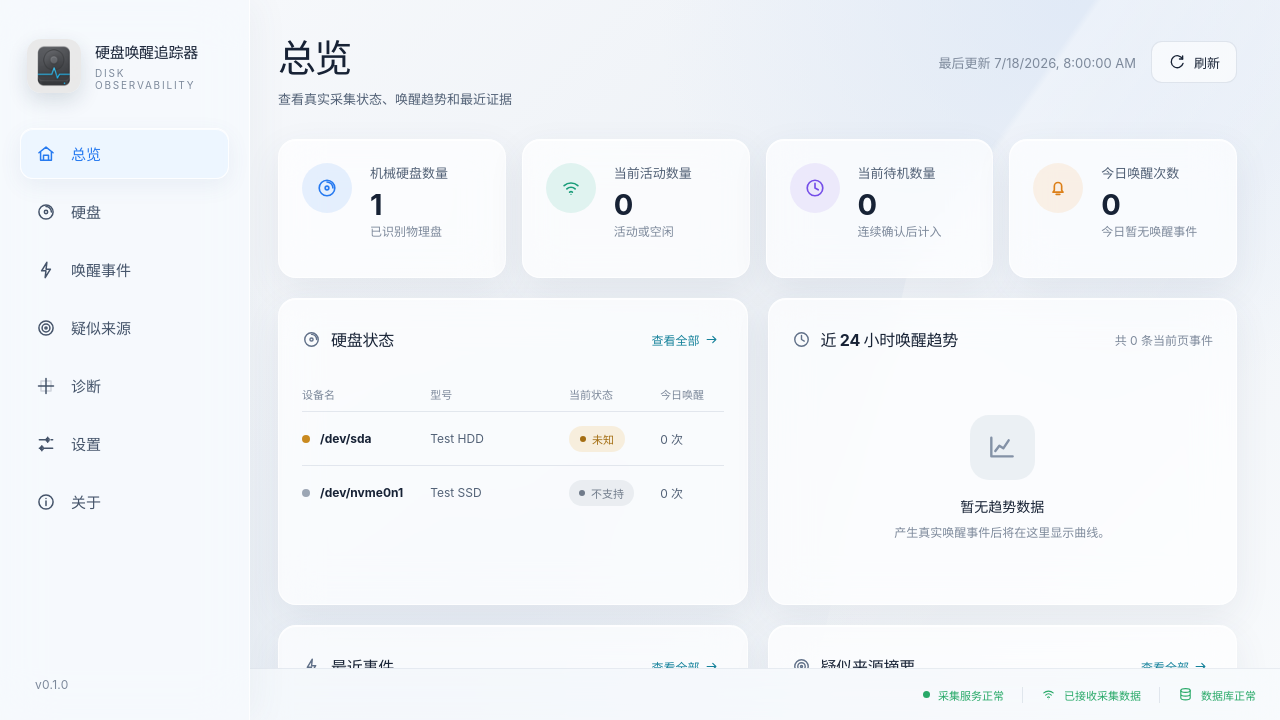
Scenario: App › 设置保存失败时不伪装成功
The width and height of the screenshot is (1280, 720).
Click the button "设置" at (124, 444), box [20,418,229,469]
(page scrolled)
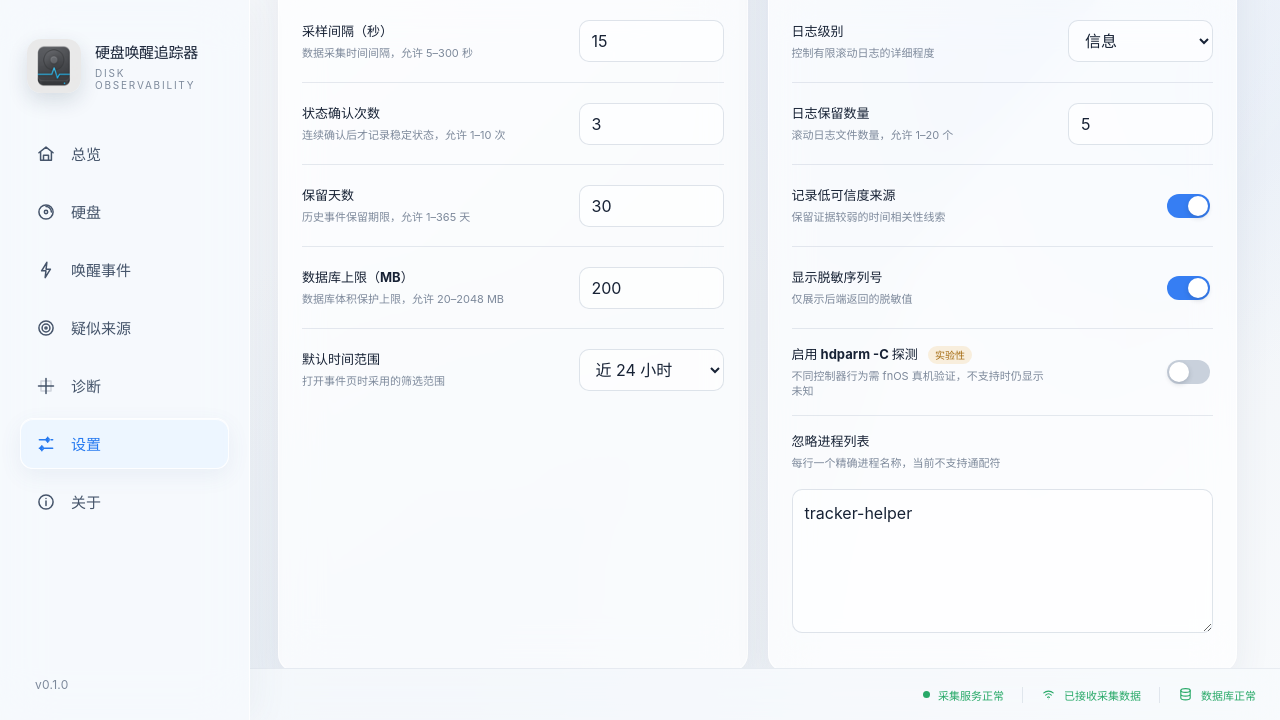
Submit the form with class "settings-form"
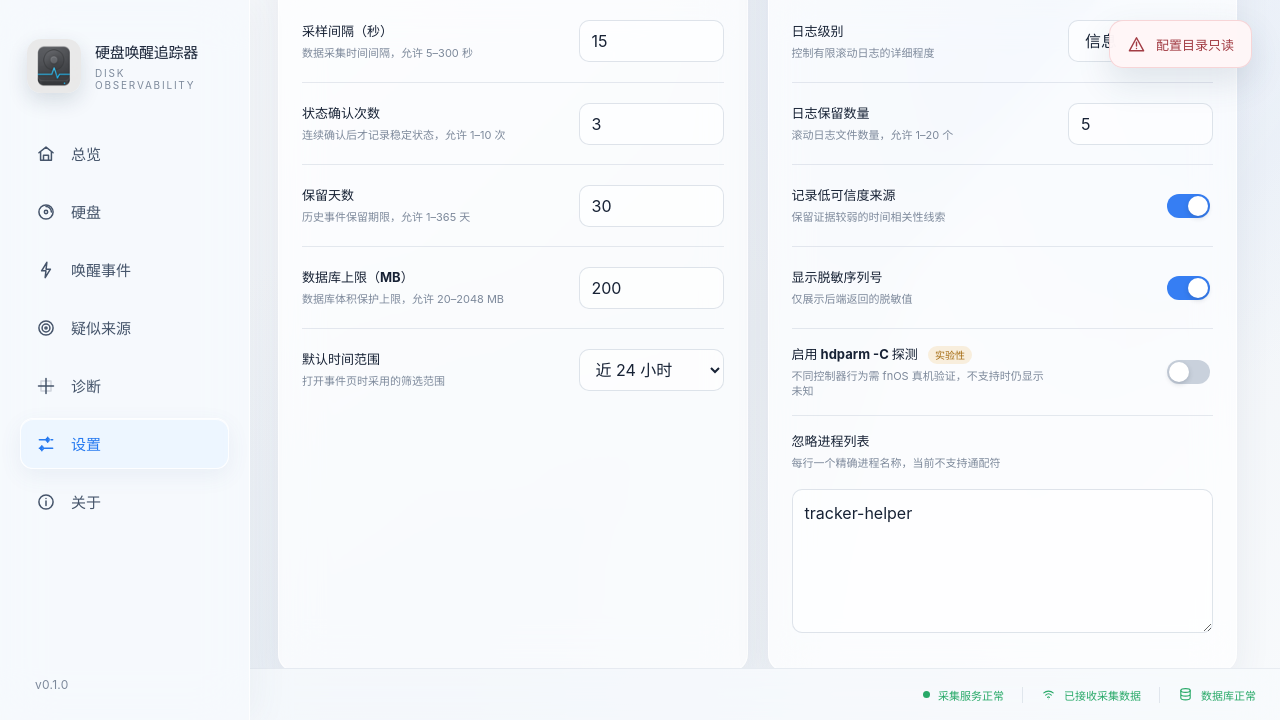
expect the text "配置目录只读" is shown: met, box [1156,34,1234,54]
